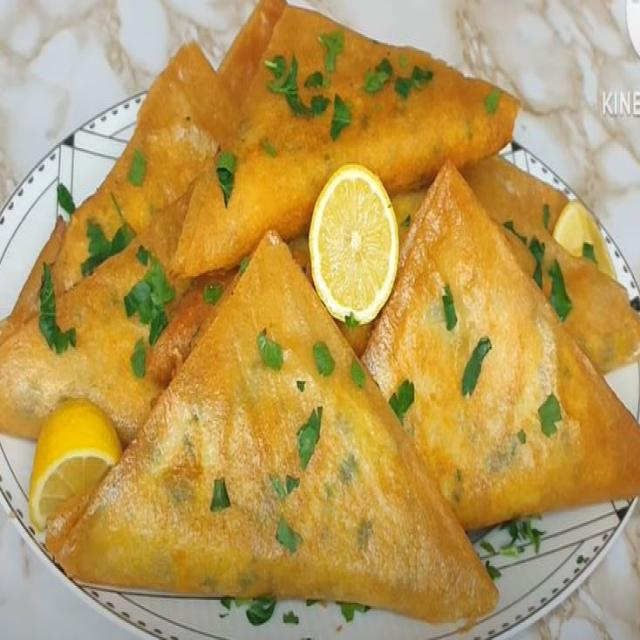brik: (61, 214, 500, 626), (174, 0, 540, 257), (397, 174, 637, 515)
